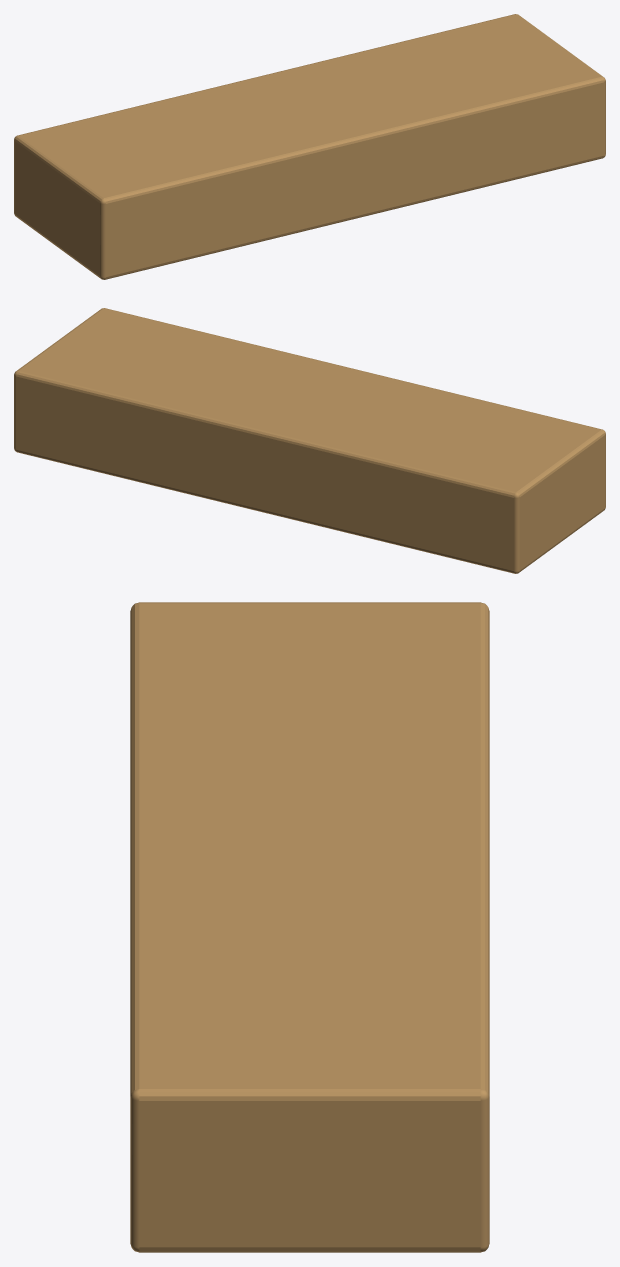
File: hinge.glb
3 views of the same model, one above another, from view 1: azimuth 30°, elevation 25°; view 2: azimuth 150°, elevation 25°; view 3: azimuth 270°, elevation 25° (orthographic). The views are drawn at different scales.
Parts seen in each view (by area): view 1: hinge; view 2: hinge; view 3: hinge.
Boxes of the visible parts, bbox=[...] form: hinge: bbox=[14, 14, 605, 279]; hinge: bbox=[14, 308, 605, 573]; hinge: bbox=[130, 602, 489, 1252].
Bounding box in the file's own units: 0.039 × 0.006 × 0.012.
